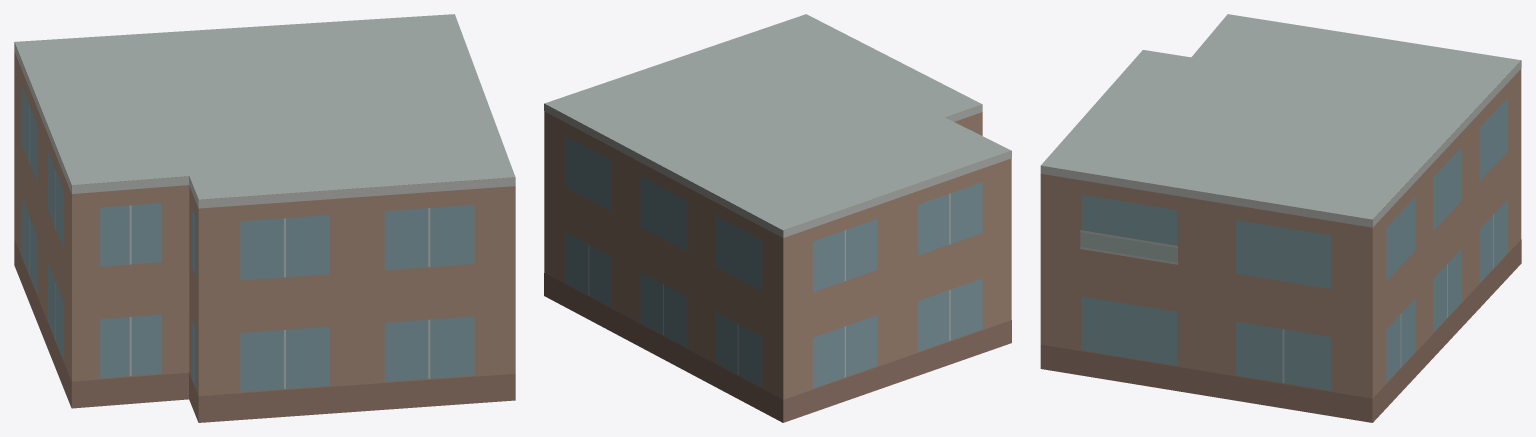
The model's file is survey-upis-32923668.glb.
The picture shows the model from 3 angles, left to right: view 1: azimuth 30°, elevation 25°; view 2: azimuth 150°, elevation 25°; view 3: azimuth 270°, elevation 25°; orthographic projection. The views are drawn at different scales.
Parts seen in each view (by area): view 1: survey-upis-32923668.tmp; view 2: survey-upis-32923668.tmp; view 3: survey-upis-32923668.tmp.
Boxes of the visible parts, x1,y1,x2,y2 form: survey-upis-32923668.tmp: (14,14,515,422); survey-upis-32923668.tmp: (544,14,1011,422); survey-upis-32923668.tmp: (1040,14,1521,422).
Size of the model in its own units: 13.24 by 6.1 by 13.08.
